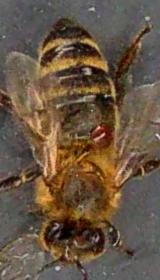varroa_mite: (83, 122, 123, 152)
